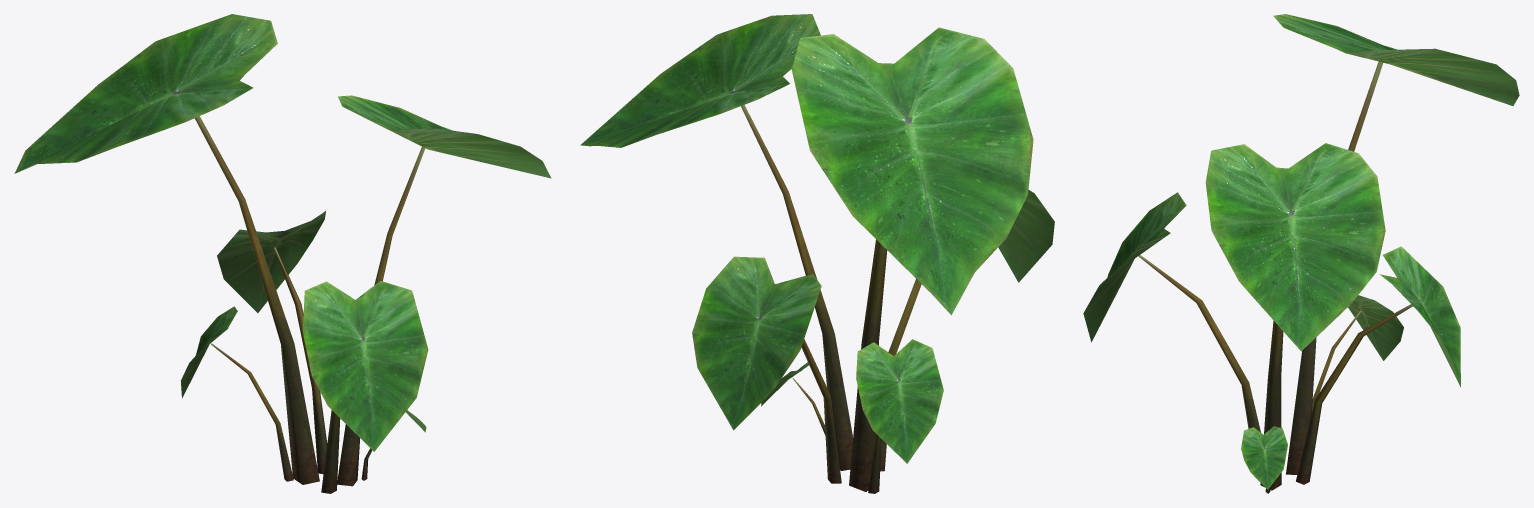
File: Colocasia_m.FBX
3 views of the same model, side by side, from view 1: azimuth 30°, elevation 25°; view 2: azimuth 150°, elevation 25°; view 3: azimuth 270°, elevation 25° (orthographic). The views are drawn at different scales.
Visible parts, largest first — view 1: Colocasia011, Colocasia019, Colocasia020, Colocasia018, Colocasia013; view 2: Colocasia011, Colocasia020, Colocasia018, Colocasia013, Colocasia019; view 3: Colocasia020, Colocasia011, Colocasia018, Colocasia019, Colocasia013, Colocasia015.
Boxes of the visible parts, x1,y1,x2,y2 form: Colocasia011: (14, 14, 319, 484); Colocasia019: (302, 281, 428, 493); Colocasia020: (337, 95, 551, 486); Colocasia018: (217, 211, 327, 474); Colocasia013: (181, 306, 293, 481); Colocasia011: (791, 27, 1033, 491); Colocasia020: (580, 14, 852, 470); Colocasia018: (692, 256, 841, 483); Colocasia013: (856, 339, 943, 493); Colocasia019: (880, 190, 1054, 471); Colocasia020: (1205, 143, 1385, 490); Colocasia011: (1273, 14, 1519, 474); Colocasia018: (1296, 246, 1460, 484); Colocasia019: (1083, 192, 1260, 432); Colocasia013: (1312, 295, 1403, 411); Colocasia015: (1241, 426, 1287, 493).
Size of the model in its own units: 131 by 121 by 112.
